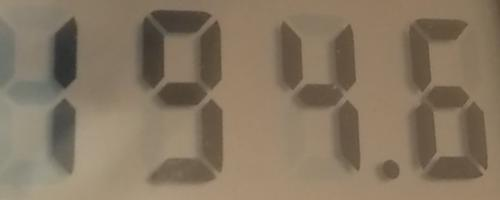.: (377, 158, 400, 182)
